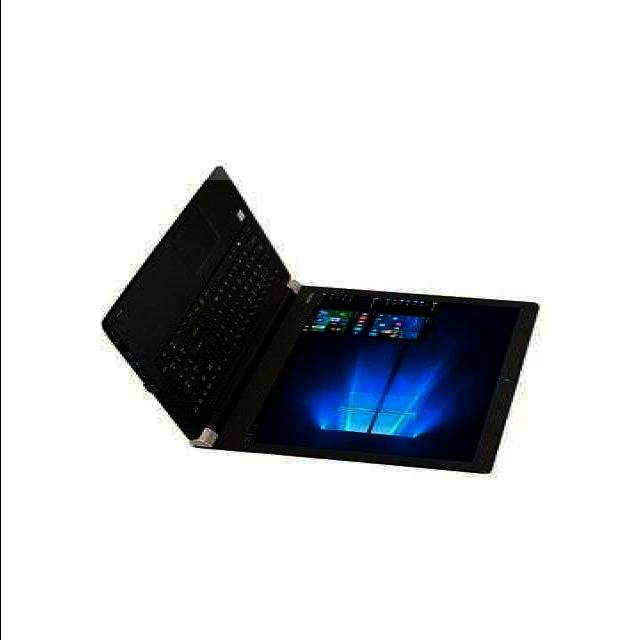-keyboard-: (100, 180, 546, 478)
